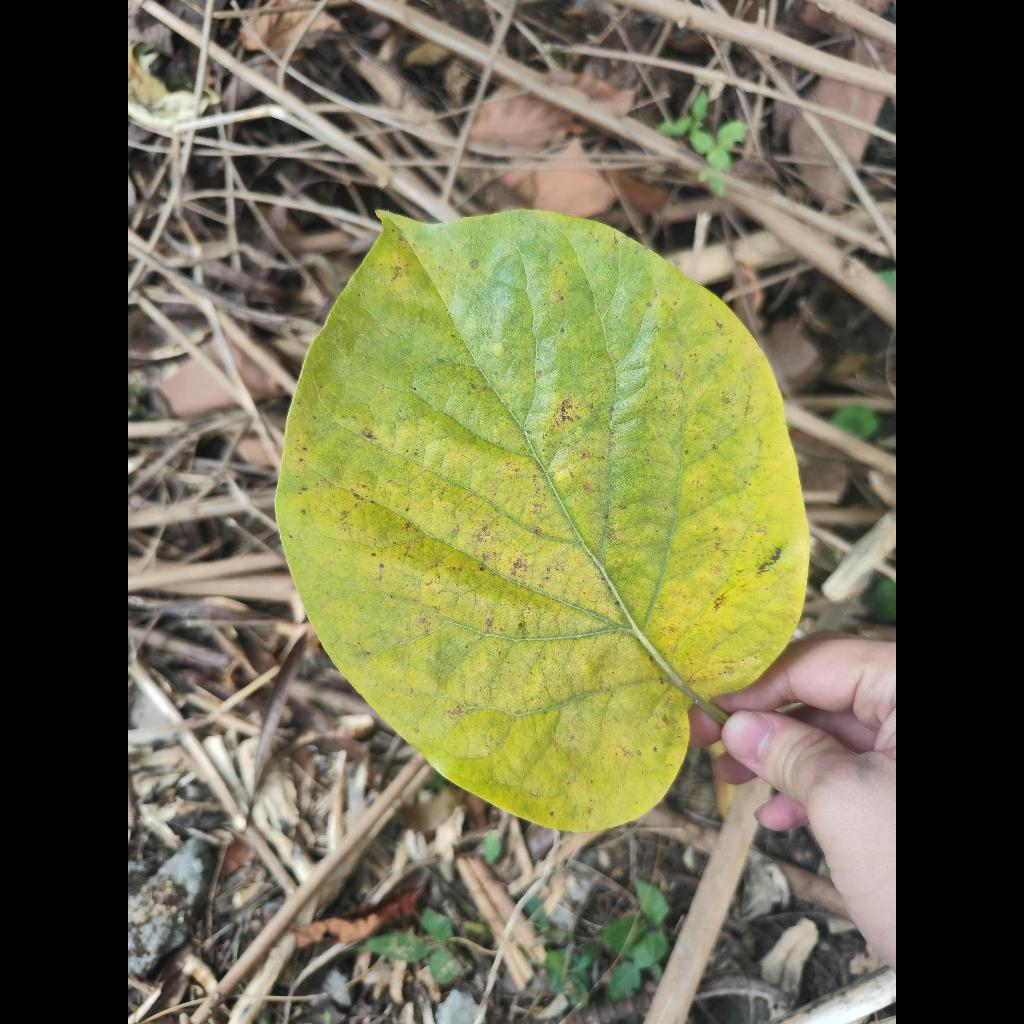deficiencia_nutricional: (276, 211, 807, 831)
